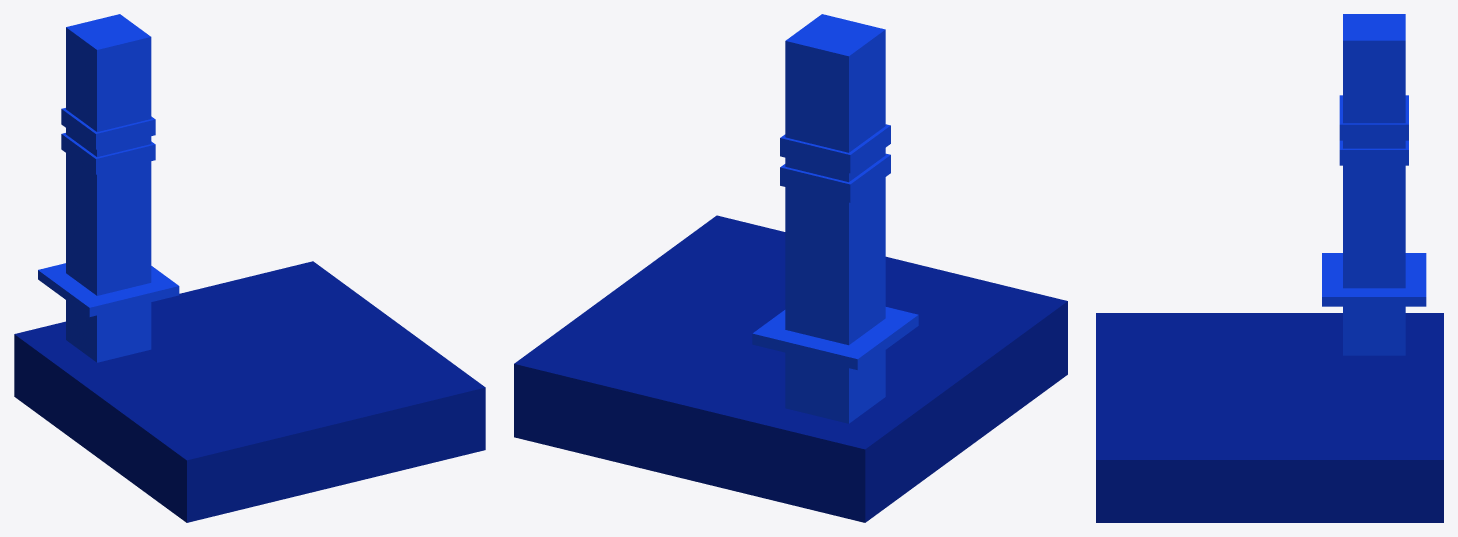
Rendered from arcade_tile_floor_pillar.fbx.
The picture shows the model from 3 angles, left to right: view 1: azimuth 30°, elevation 25°; view 2: azimuth 150°, elevation 25°; view 3: azimuth 270°, elevation 25°; orthographic projection. The views are drawn at different scales.
Parts seen in each view (by area): view 1: tile_floor_pillar, pillar; view 2: tile_floor_pillar, pillar; view 3: tile_floor_pillar, pillar.
Part boxes in pixels (<box>): tile_floor_pillar: <box>14,261,485,522</box>; pillar: <box>38,14,179,362</box>; tile_floor_pillar: <box>514,215,1067,522</box>; pillar: <box>752,14,918,423</box>; tile_floor_pillar: <box>1096,313,1443,522</box>; pillar: <box>1322,14,1426,355</box>.
Size of the model in its own units: 5 by 6 by 5.
